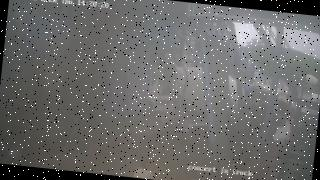cement_mixer_truck: (137, 54, 296, 160)
